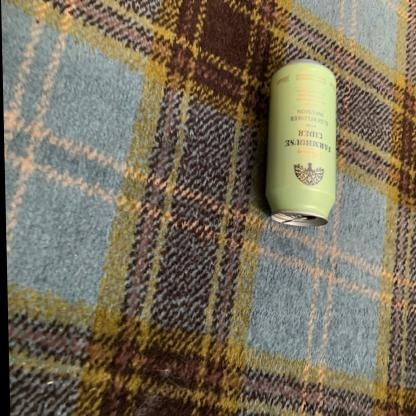trash: (266, 60, 335, 225)
